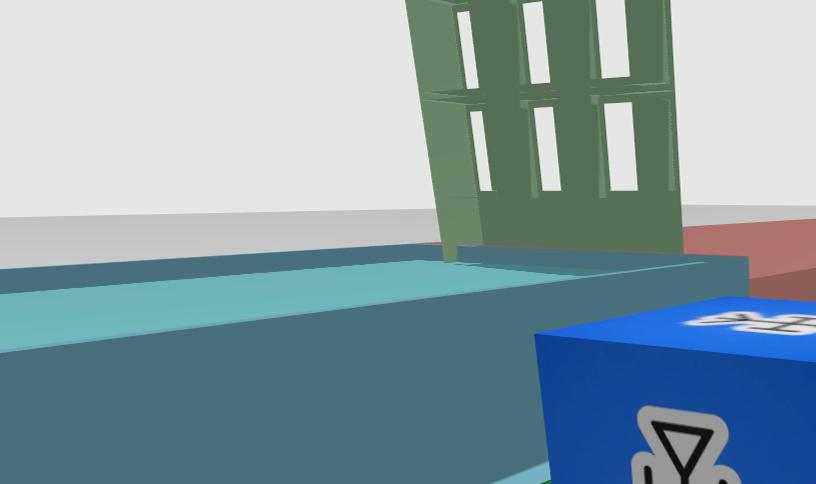KFS_REAL: (535, 297, 815, 483), (631, 406, 740, 483), (683, 310, 815, 335)
